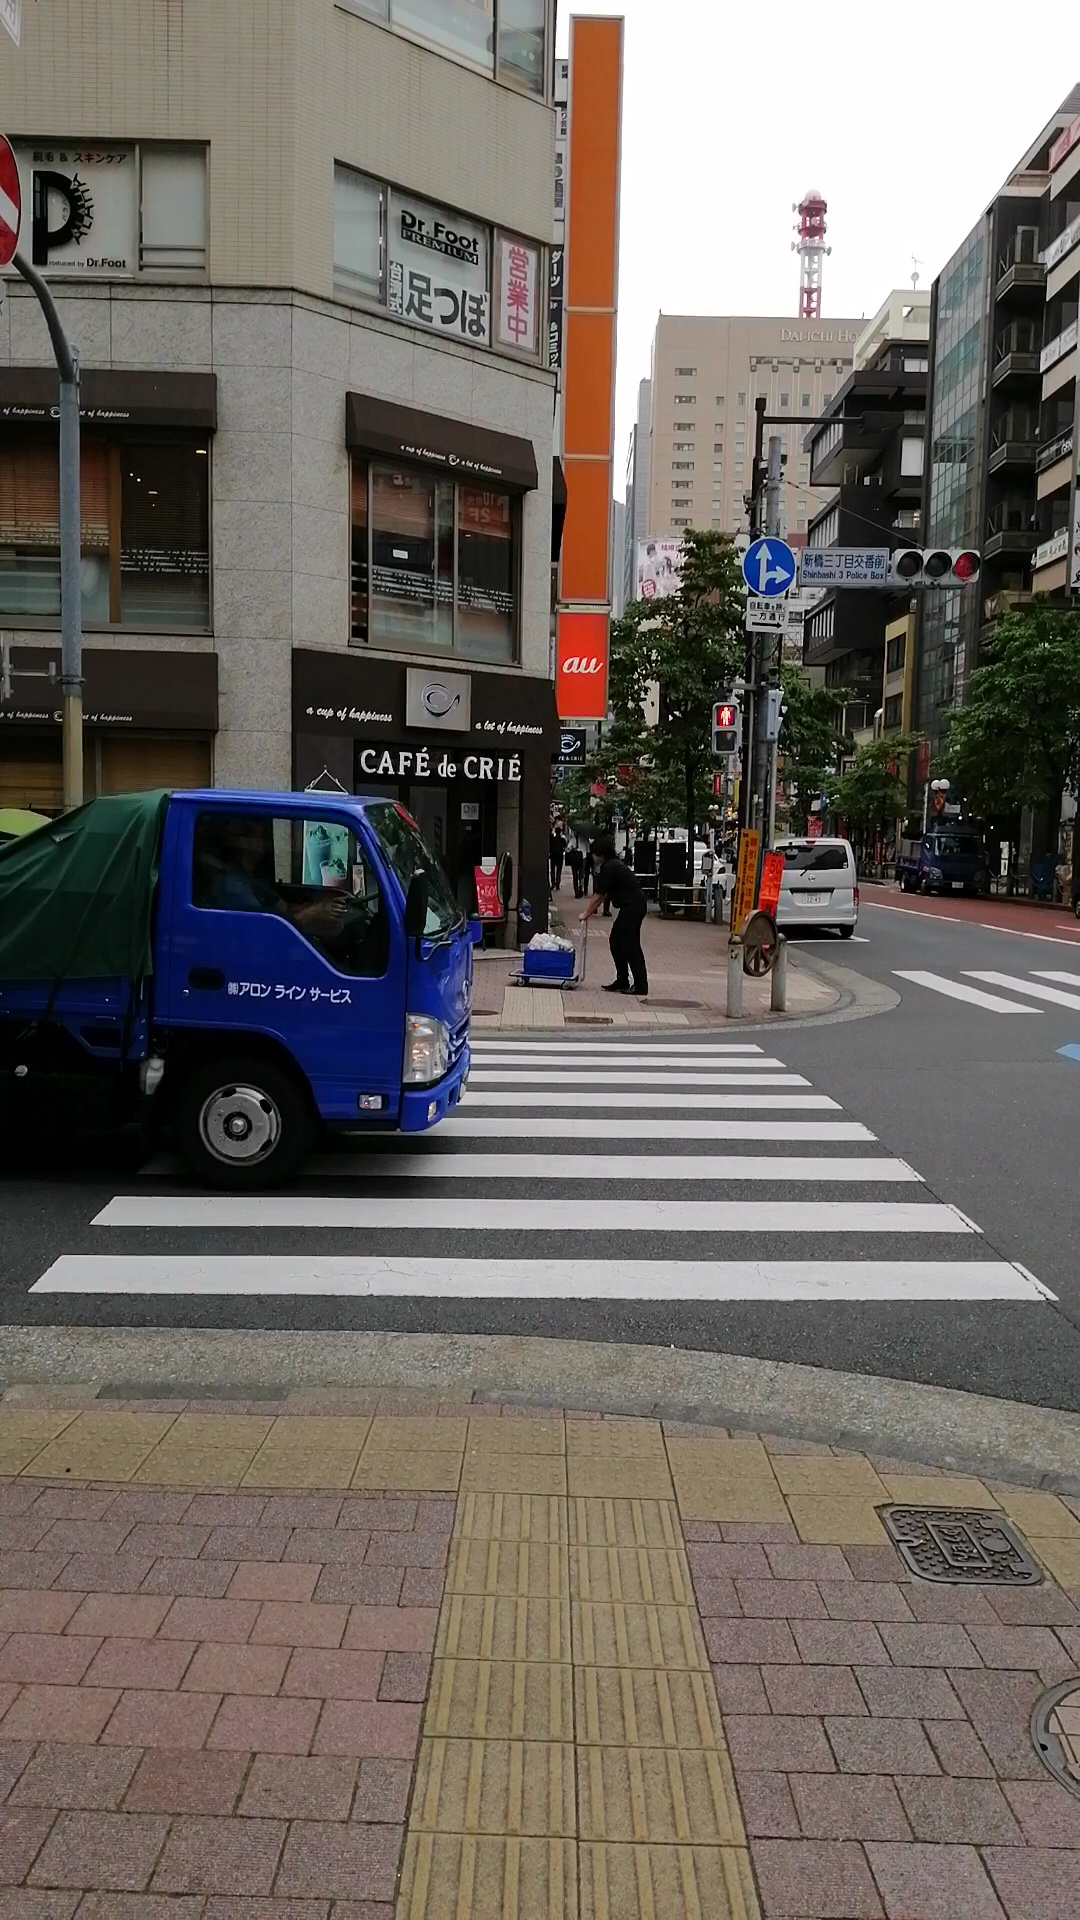red: (709, 700, 738, 756)
